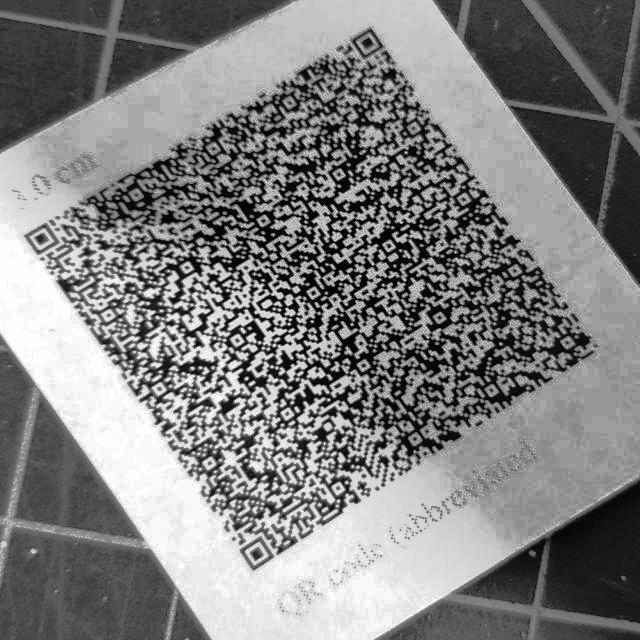qr_code: (15, 20, 624, 581)
